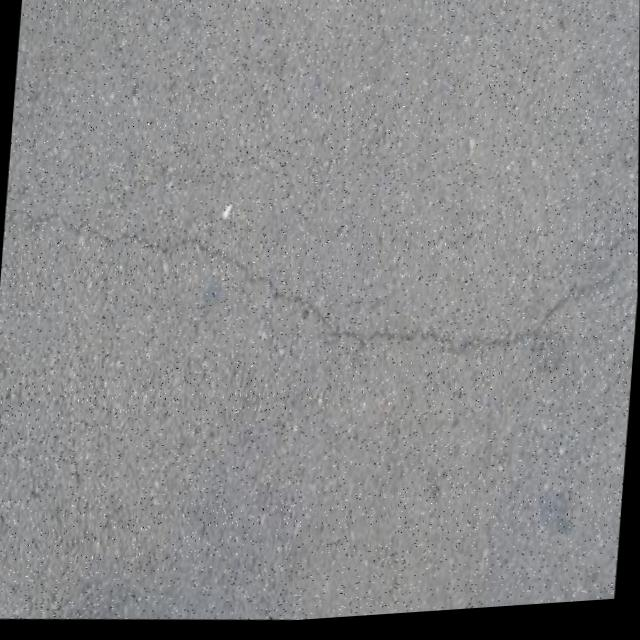Crack: (0, 159, 639, 413)
